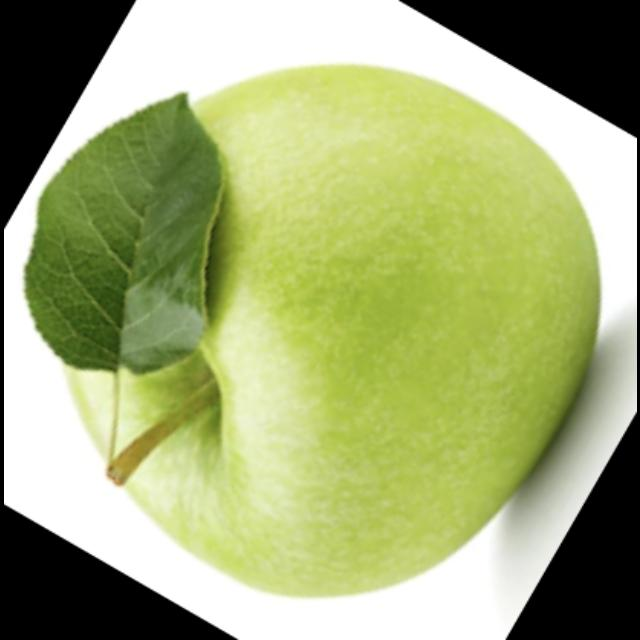Apel Segar: (50, 78, 602, 558)
